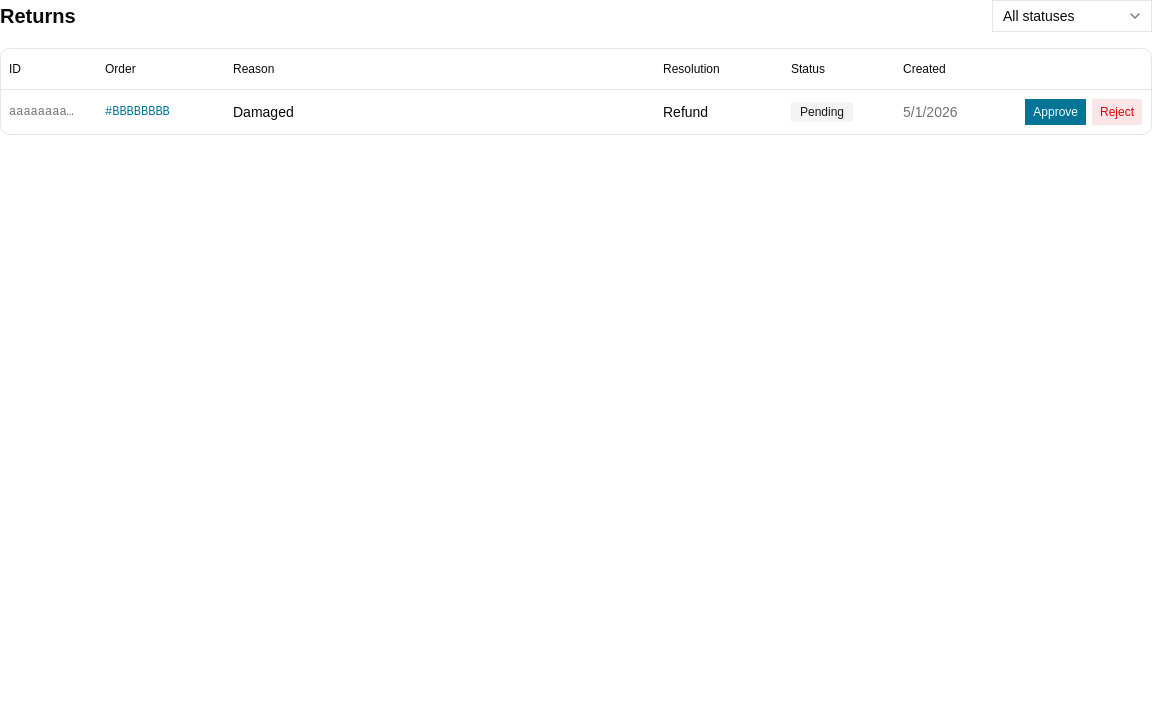
Test: ReturnsPage — approve/reject dialog › opens approve dialog when Approve is clicked
Click the button "Approve" at coordinates (1056, 112), box top-left (1024, 98), bottom-right (1087, 126)
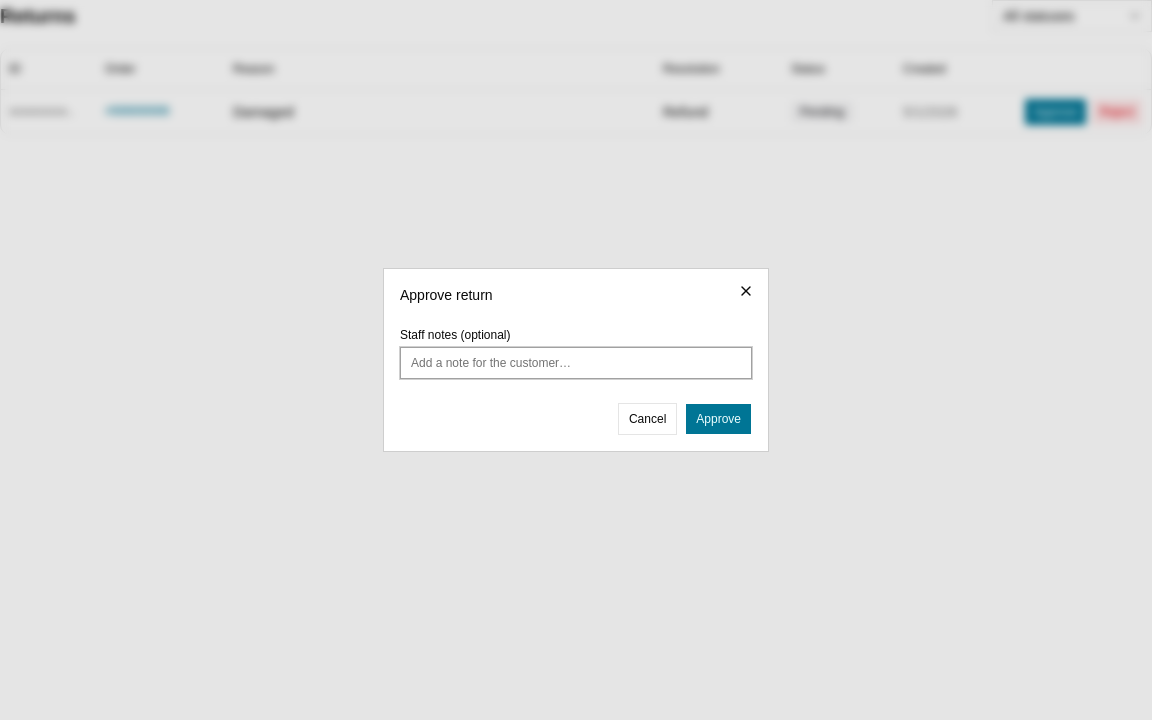
Expected: the dialog is shown, top-left (384, 269), bottom-right (768, 451)
Expected: the heading "Approve return" is shown, top-left (400, 287), bottom-right (493, 303)
